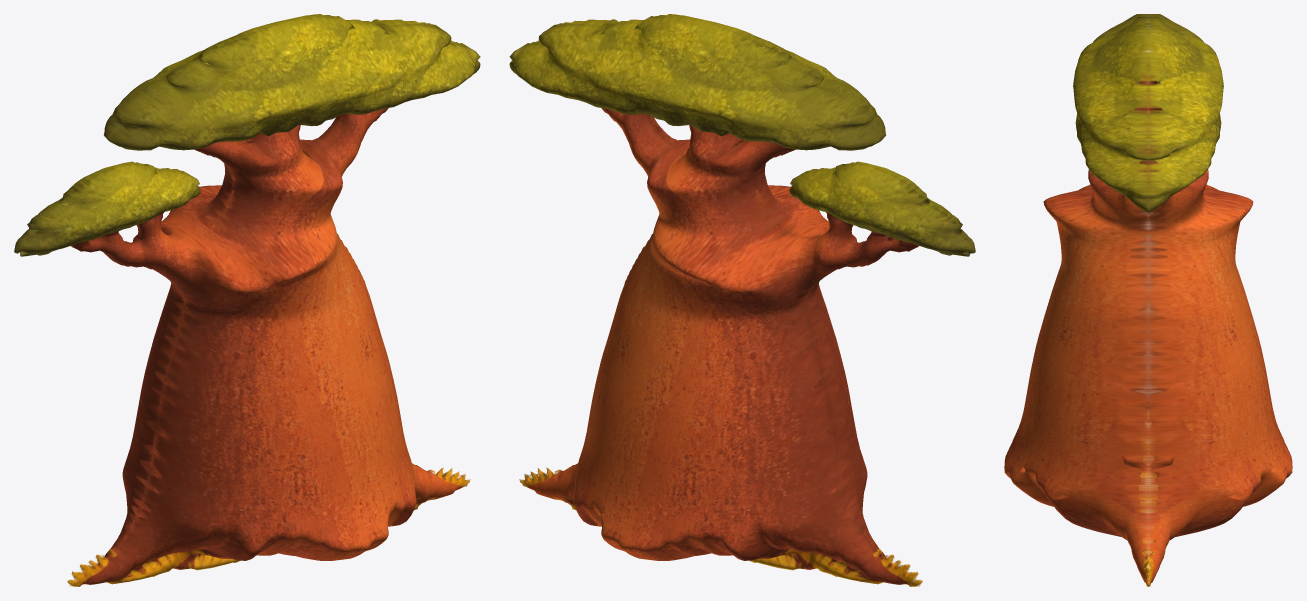
File: layers_props_10_tree_baobab.glb
3 views of the same model, side by side, from view 1: azimuth 30°, elevation 25°; view 2: azimuth 150°, elevation 25°; view 3: azimuth 270°, elevation 25° (orthographic). The views are drawn at different scales.
Parts seen in each view (by area): view 1: layers_props_10_tree_baobab; view 2: layers_props_10_tree_baobab; view 3: layers_props_10_tree_baobab.
Boxes of the visible parts, box(x1,y1,x2,y2) form: layers_props_10_tree_baobab: box(14, 14, 480, 586); layers_props_10_tree_baobab: box(509, 14, 975, 586); layers_props_10_tree_baobab: box(1004, 14, 1292, 586).
Size of the model in its own units: 9.32 by 10.03 by 5.44.
1 material, 1 textured.
